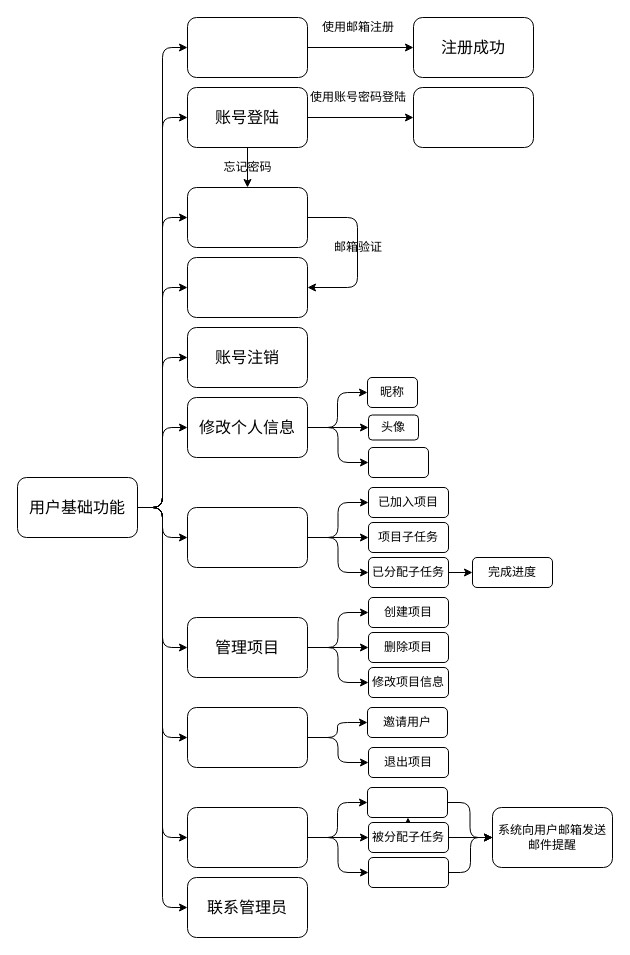
Image size: 630x955. Some labels were removed from this diagram. Here are the shapes that lost their labels. From the top down, the centre of each, then its label:
At pixel 247 47: "账号注册".
At pixel 473 117: "登陆成功".
At pixel 247 217: "找回密码".
At pixel 247 287: "重置密码".
At pixel 398 462: "个人简介".
At pixel 247 537: "查看项目信息".
At pixel 247 737: "人员管理".
At pixel 407 802: "收到项目邀请".
At pixel 247 837: "邮件功能".
At pixel 408 872: "任务审核通过".
